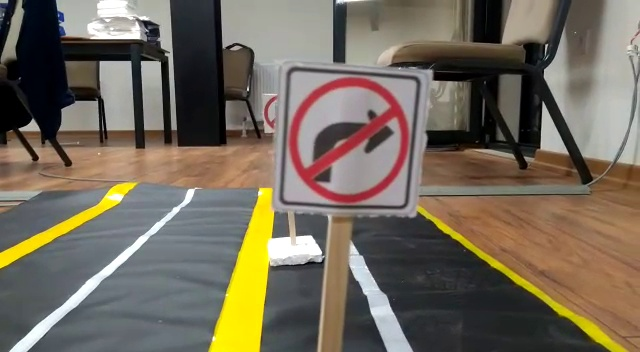saga_donulmez: (285, 68, 406, 210)
